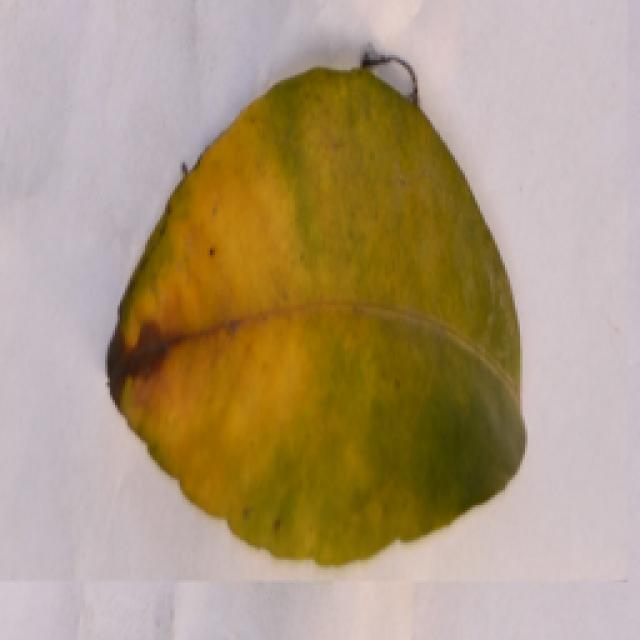canker: (88, 91, 442, 534)
